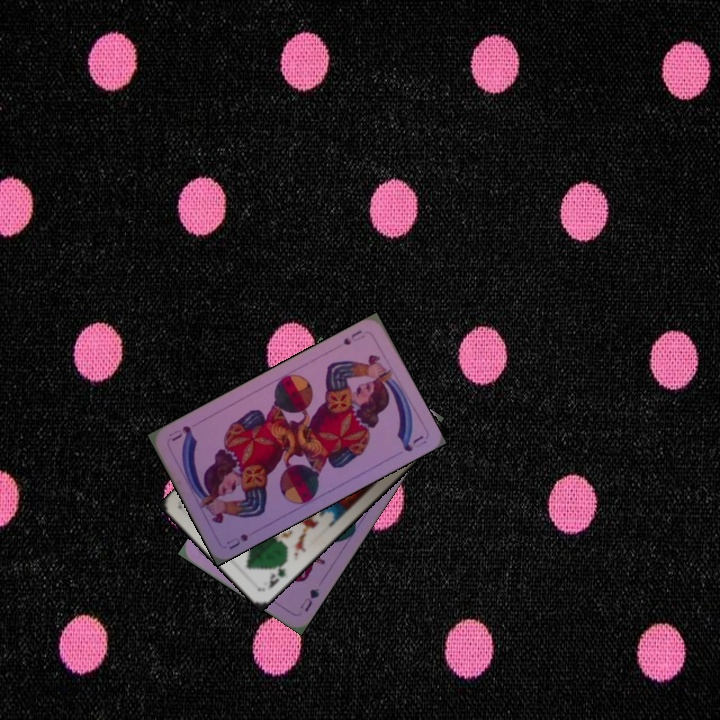GK: (264, 557, 289, 591)
GU: (296, 584, 322, 614)
SU: (222, 529, 251, 552), (339, 326, 367, 348)
